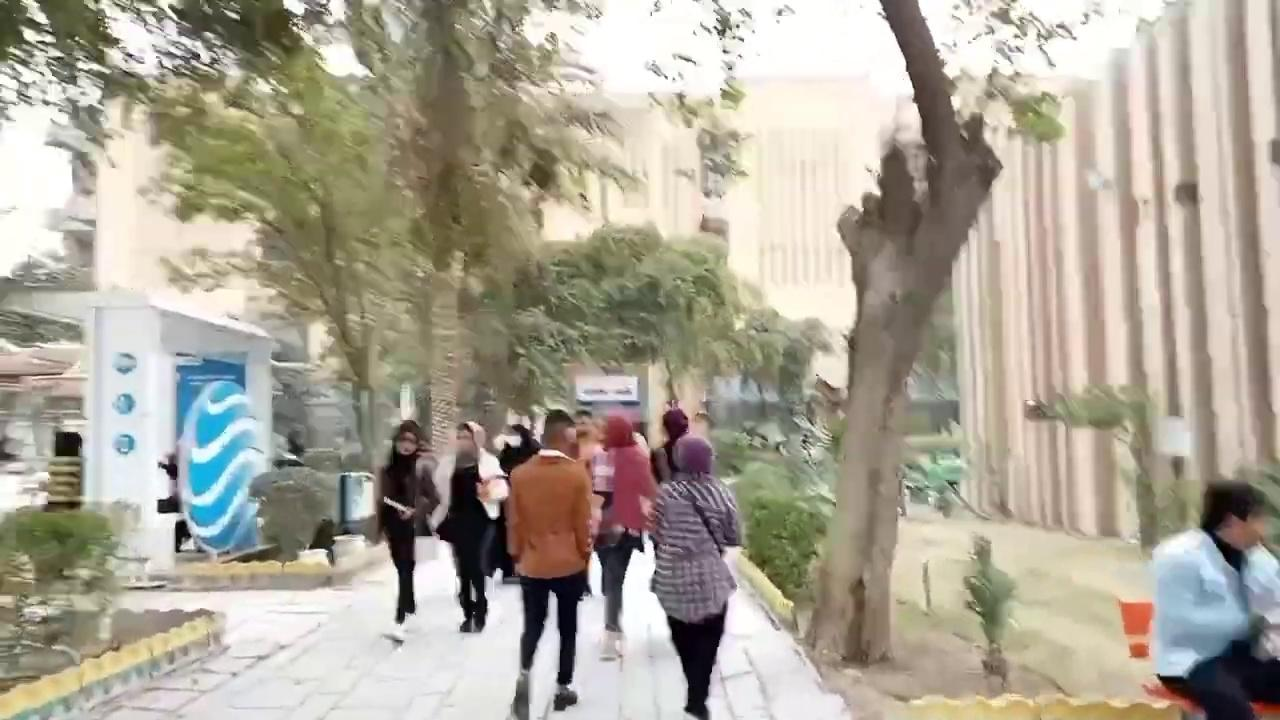person: (1150, 479, 1279, 719), (641, 434, 743, 719), (503, 409, 594, 718), (591, 414, 657, 659), (373, 419, 441, 640), (438, 420, 507, 632)
tree: (3, 0, 777, 477), (793, 0, 1164, 666), (335, 0, 641, 463), (137, 24, 433, 468), (503, 217, 828, 446), (1025, 379, 1187, 557), (1, 500, 129, 678), (960, 531, 1020, 684), (247, 469, 329, 566)
